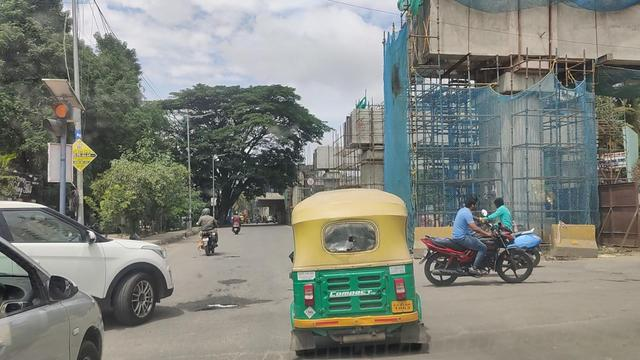LMV: (292, 187, 424, 356), (444, 197, 517, 288), (482, 197, 544, 270)
RoadDamages: (190, 287, 242, 316)
